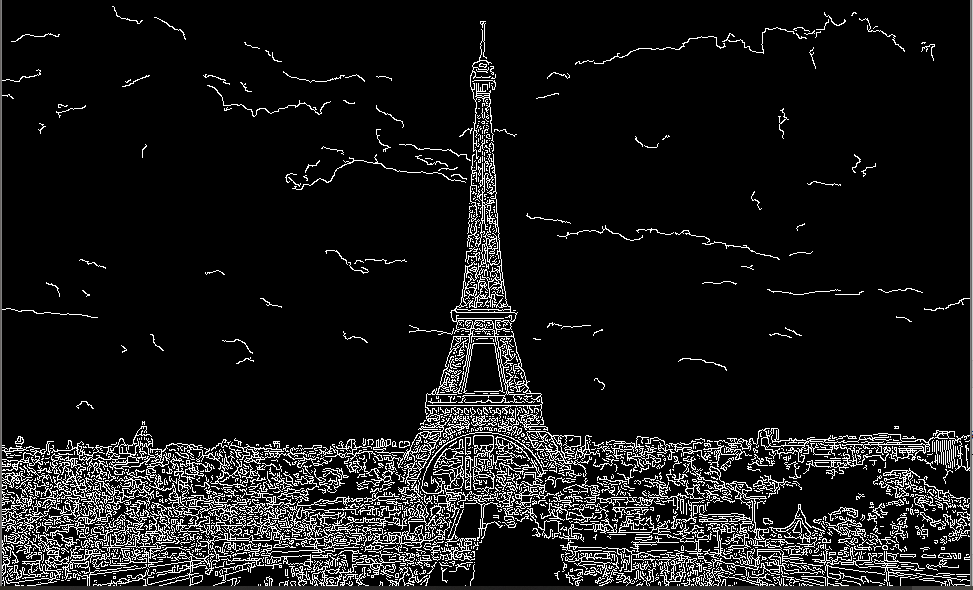eiffel tower: (385, 12, 575, 483)
